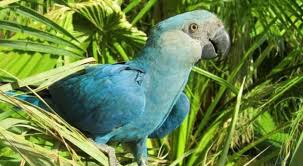guacamaya: (51, 7, 232, 158)
